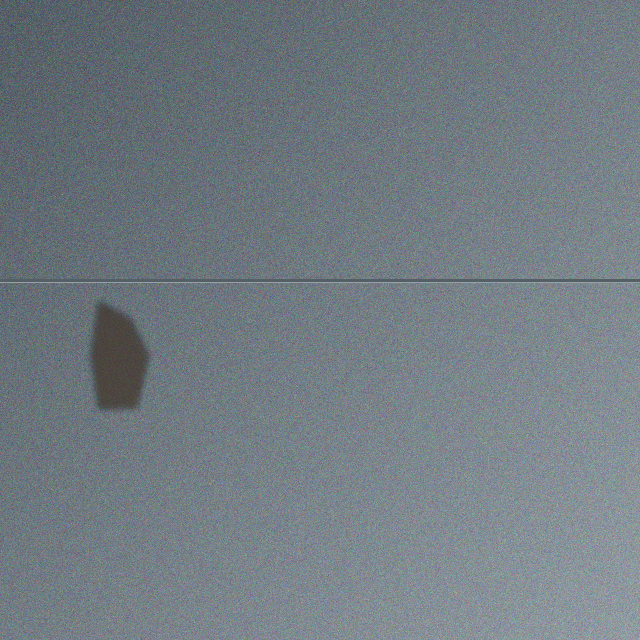defect: (75, 290, 161, 420)
